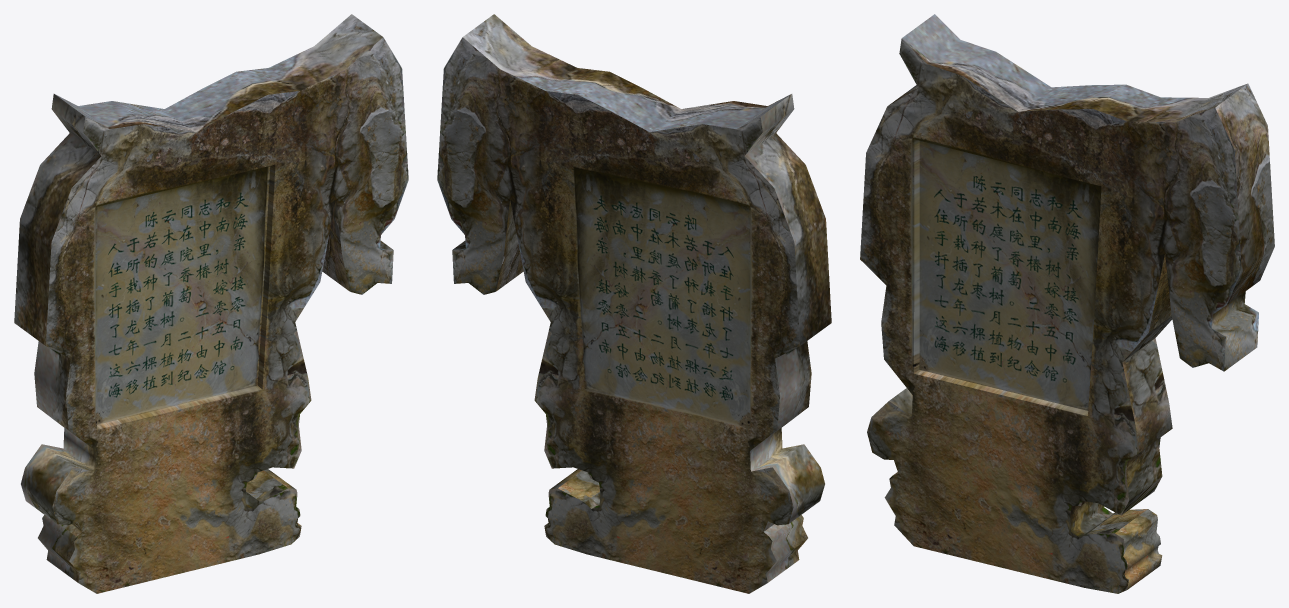
The model's file is Prop_RuomuRock1.FBX.
3 views of the same model, side by side, from view 1: azimuth 30°, elevation 25°; view 2: azimuth 150°, elevation 25°; view 3: azimuth 330°, elevation 25° (orthographic). The views are drawn at different scales.
Parts seen in each view (by area): view 1: Prop_RuomuRock1; view 2: Prop_RuomuRock1; view 3: Prop_RuomuRock1.
Part boxes in pixels (x1,y1,x2,y2): Prop_RuomuRock1: [14, 14, 408, 593]; Prop_RuomuRock1: [437, 14, 831, 593]; Prop_RuomuRock1: [860, 14, 1274, 593].
Bounding box in the file's own units: 134 × 20.18 × 172.
